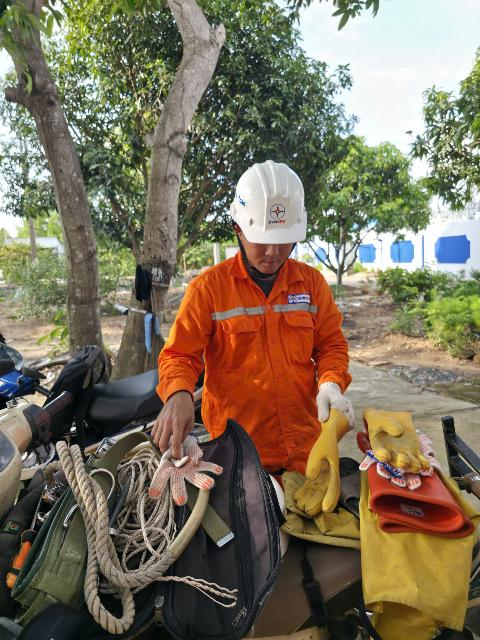gloves: (350, 406, 468, 528), (296, 391, 348, 525), (147, 431, 226, 506), (358, 395, 429, 475), (313, 370, 359, 429)
helmet: (236, 153, 331, 260)
